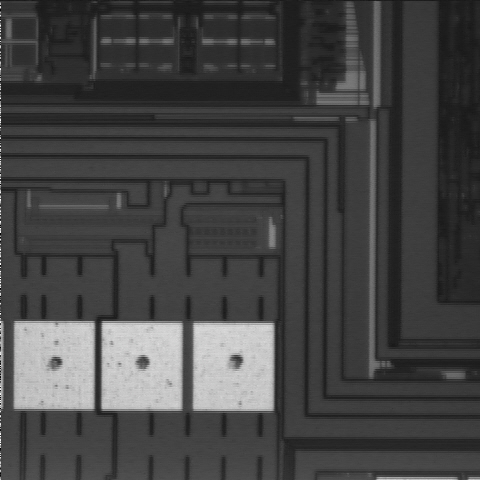pad: (194, 323, 273, 411), (102, 323, 182, 409), (15, 323, 94, 409)
